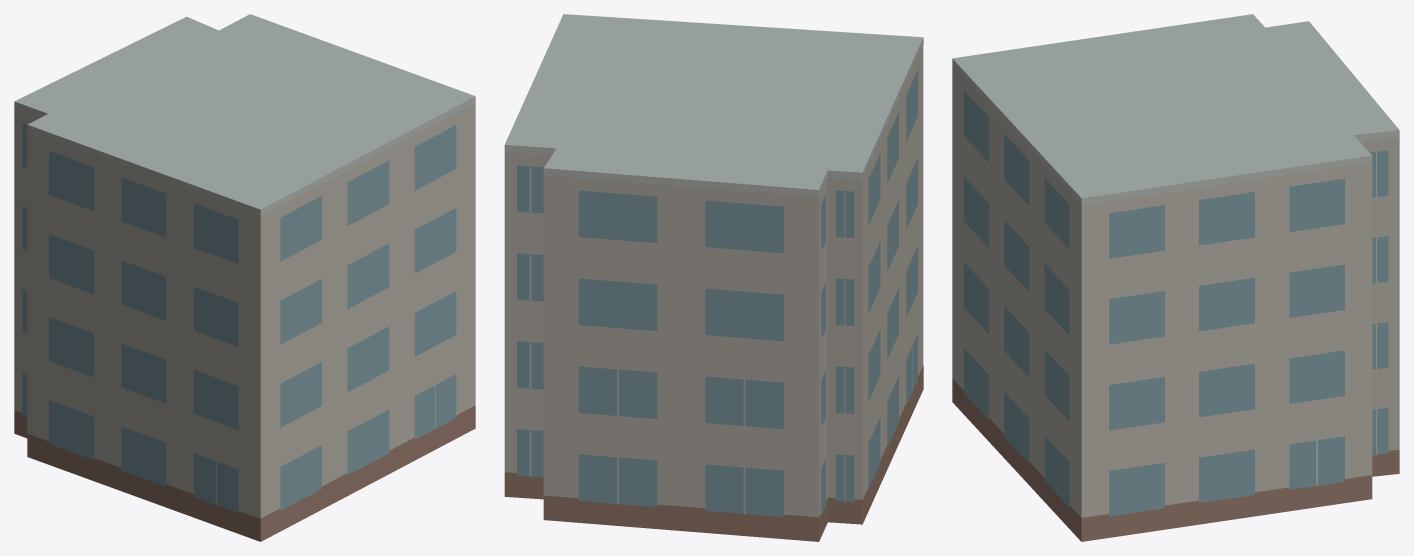
File: survey-upis-32658483.glb
3 views of the same model, side by side, from view 1: azimuth 30°, elevation 25°; view 2: azimuth 150°, elevation 25°; view 3: azimuth 270°, elevation 25° (orthographic). The views are drawn at different scales.
Parts seen in each view (by area): view 1: survey-upis-32658483.tmp; view 2: survey-upis-32658483.tmp; view 3: survey-upis-32658483.tmp.
Boxes of the visible parts, x1=… form: survey-upis-32658483.tmp: x1=14, y1=14, x2=475, y2=541; survey-upis-32658483.tmp: x1=504, y1=14, x2=923, y2=541; survey-upis-32658483.tmp: x1=952, y1=14, x2=1399, y2=541.
Size of the model in its own units: 14.05 by 12.2 by 14.41.
